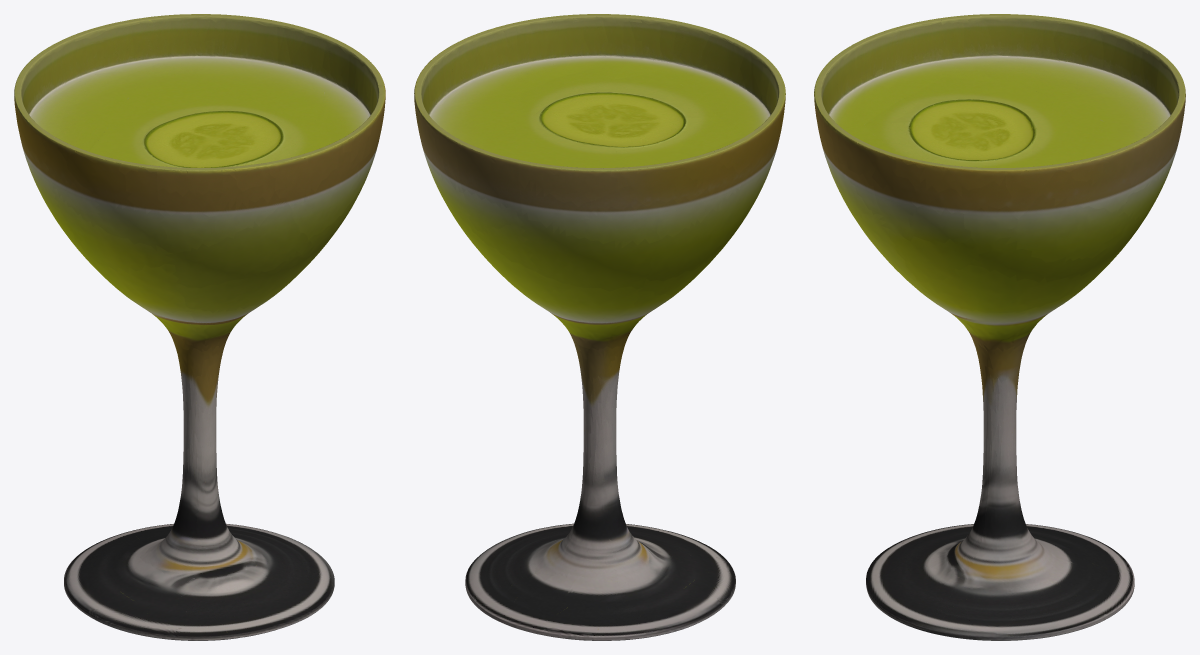
The model's file is garden-gimlet.glb.
The picture shows the model from 3 angles, left to right: view 1: azimuth 30°, elevation 25°; view 2: azimuth 150°, elevation 25°; view 3: azimuth 270°, elevation 25°; orthographic projection.
Size of the model in its own units: 1.3 by 1.9 by 1.3.
Materials: 1 (1 with a texture image).
